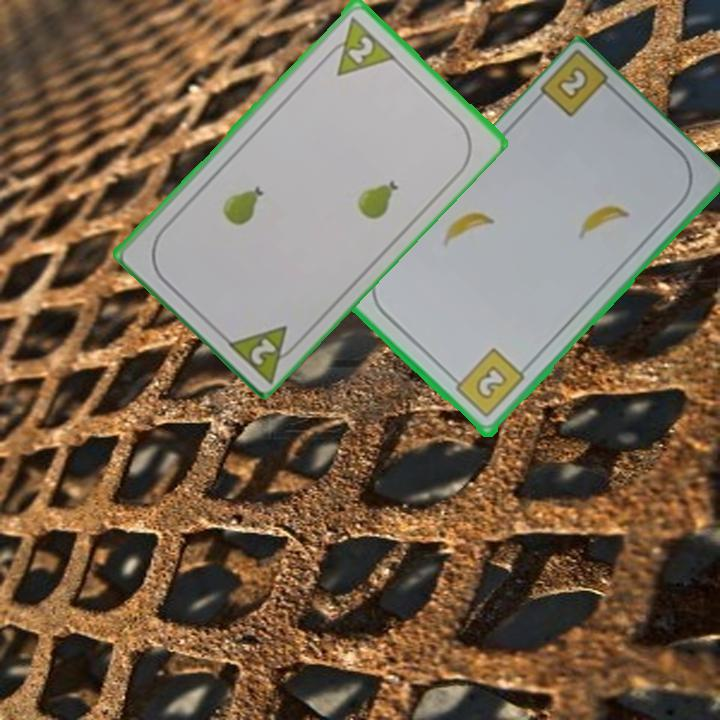2b: (447, 345, 528, 421), (553, 63, 592, 104)
2p: (319, 12, 398, 79), (222, 320, 304, 384)
